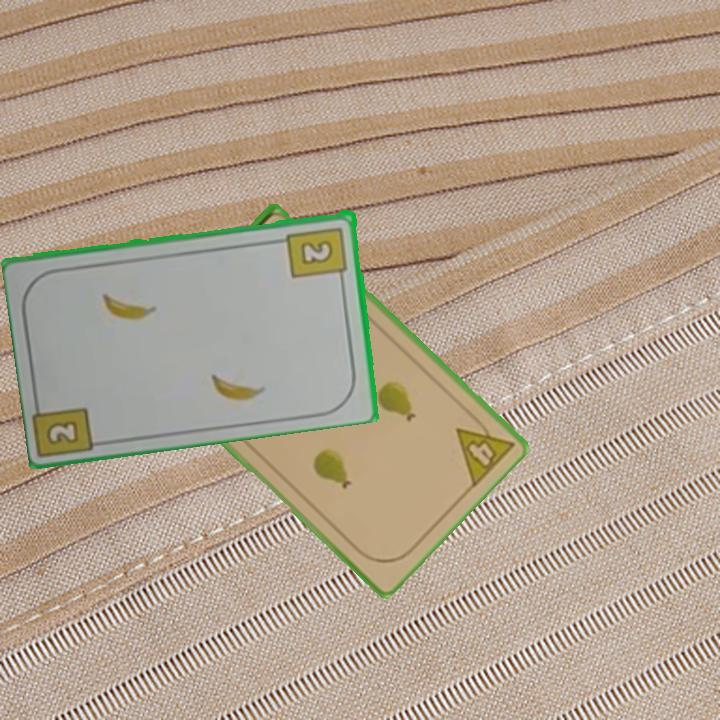2b: (284, 223, 351, 284), (42, 416, 82, 448)
4p: (452, 407, 517, 490)
